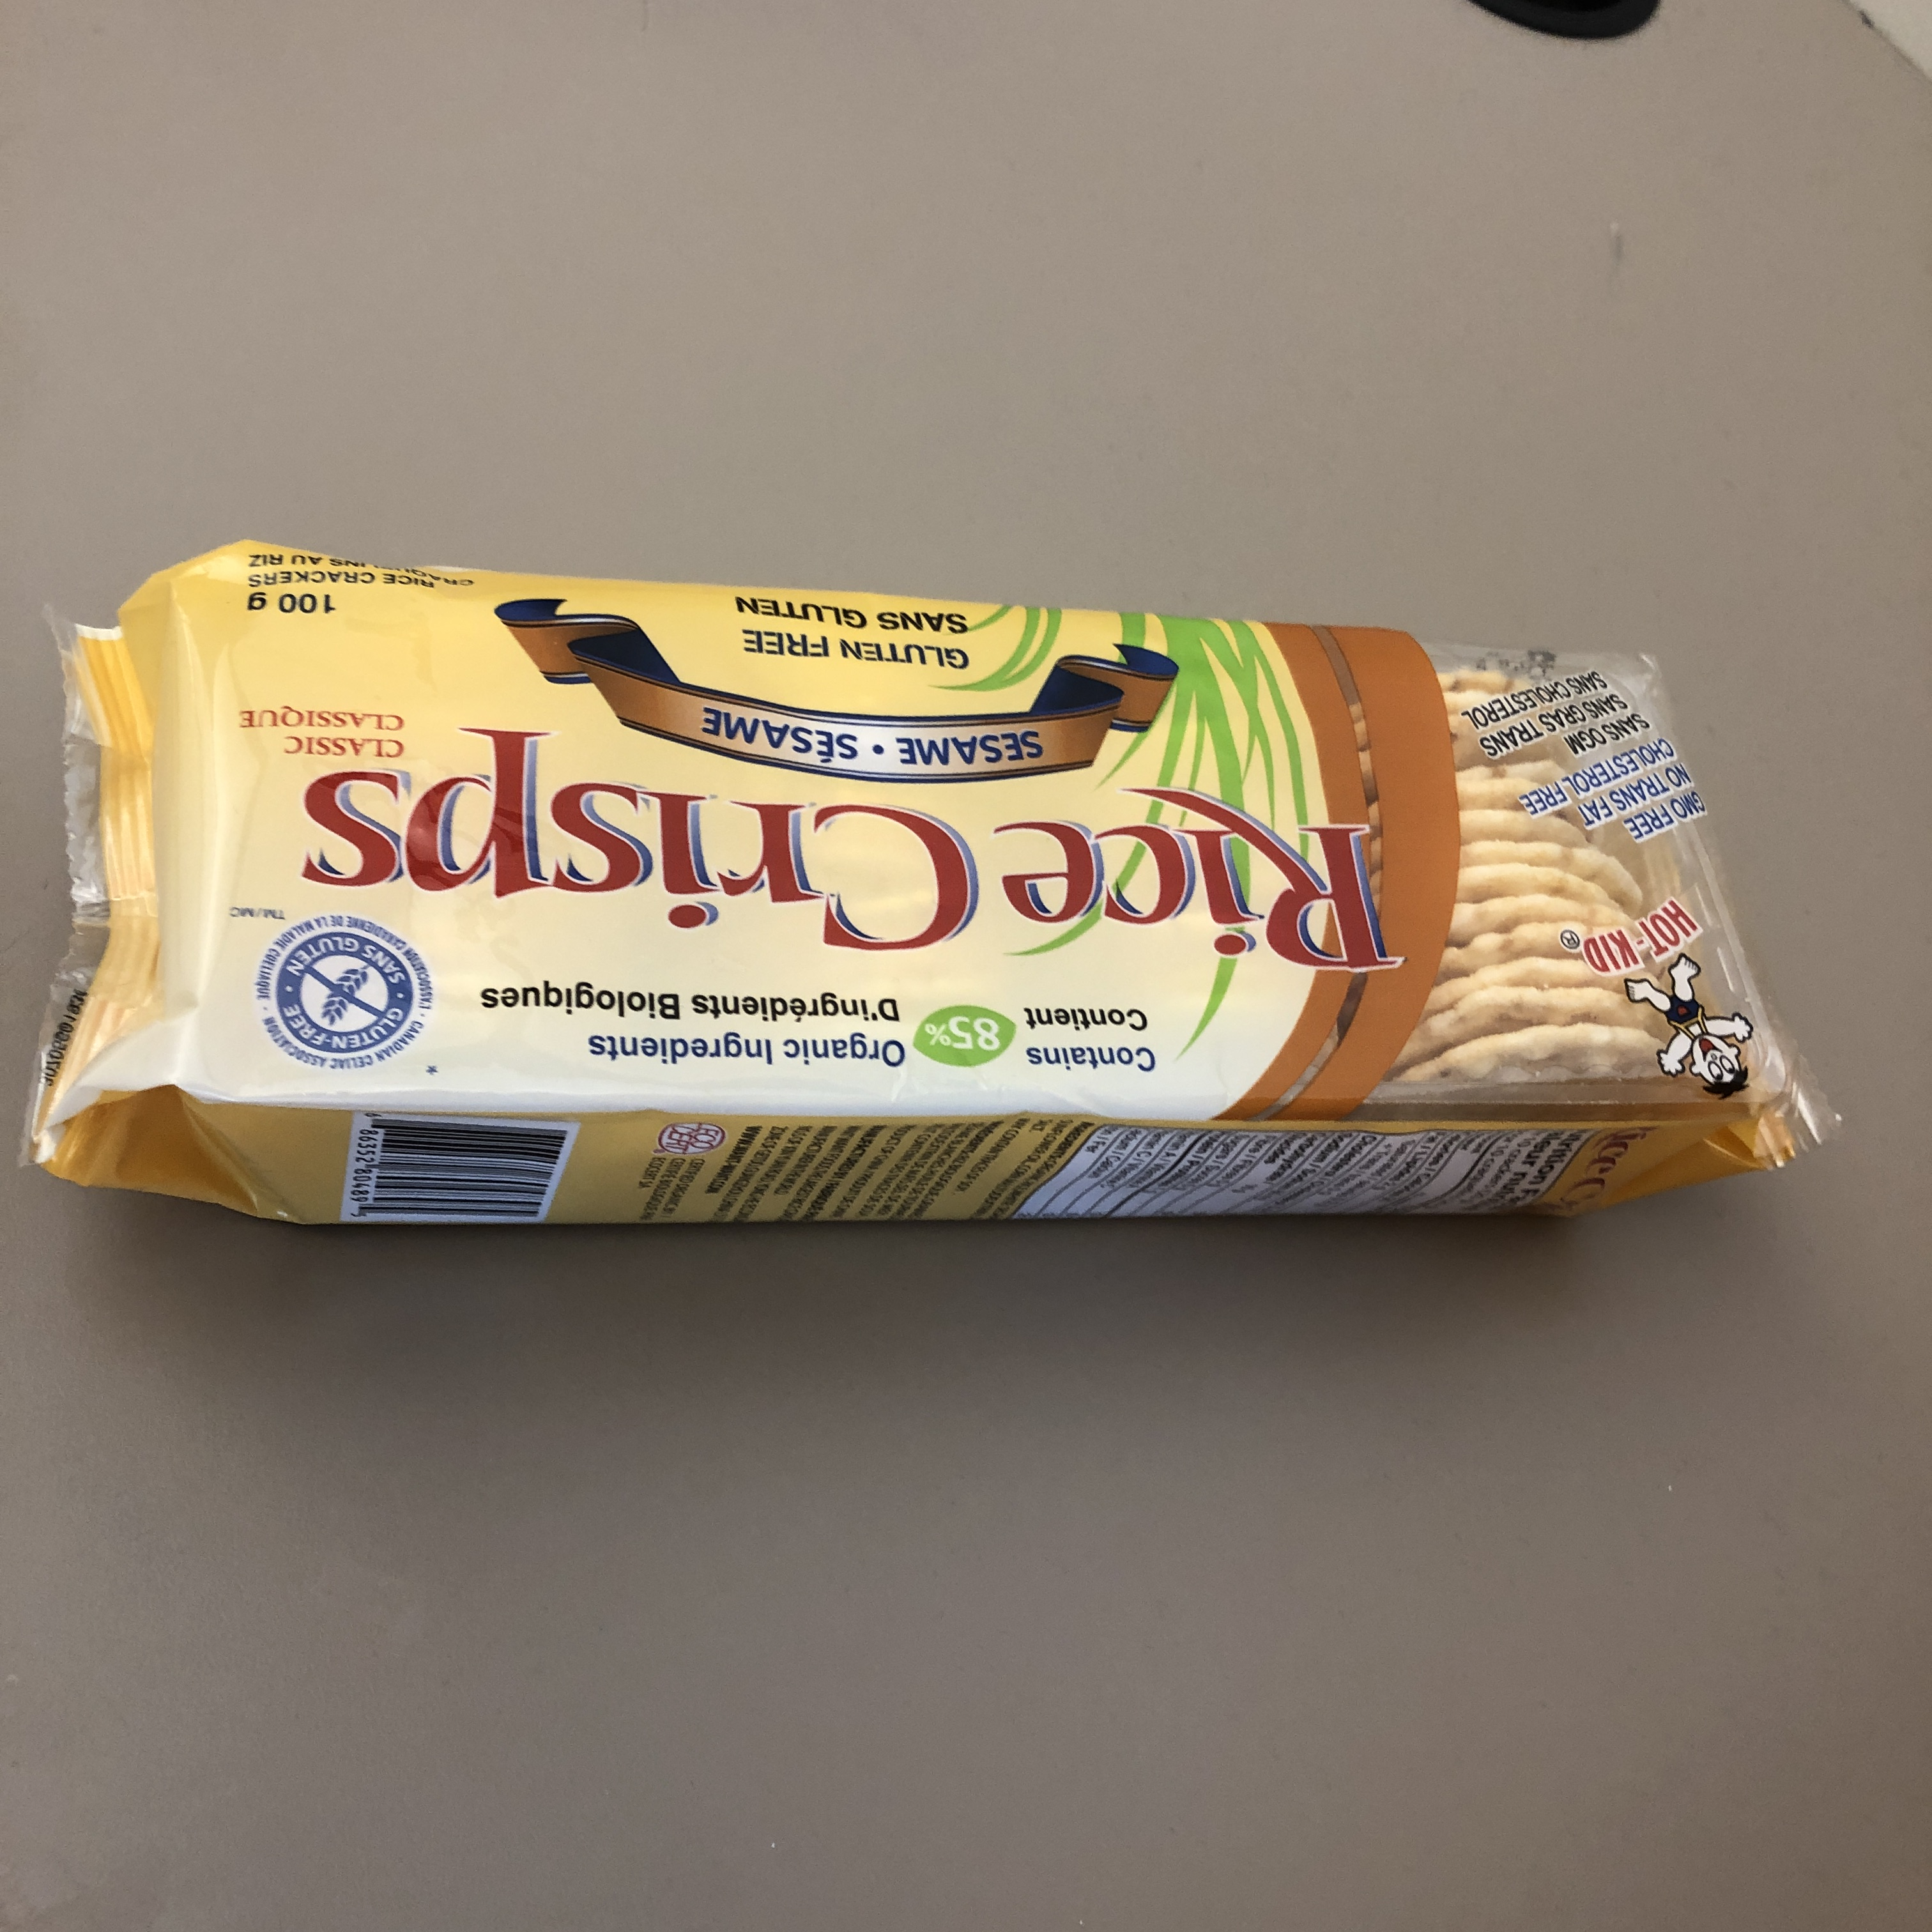hot_kid_rice_crisps_sesame: (591, 259, 1193, 1887)
